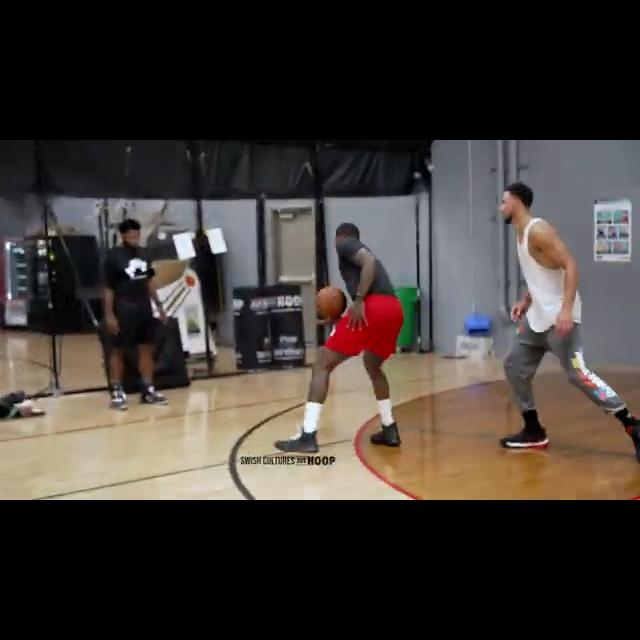basketball: (313, 285, 349, 322)
person: (497, 181, 640, 463), (274, 221, 401, 455), (96, 217, 180, 412)
